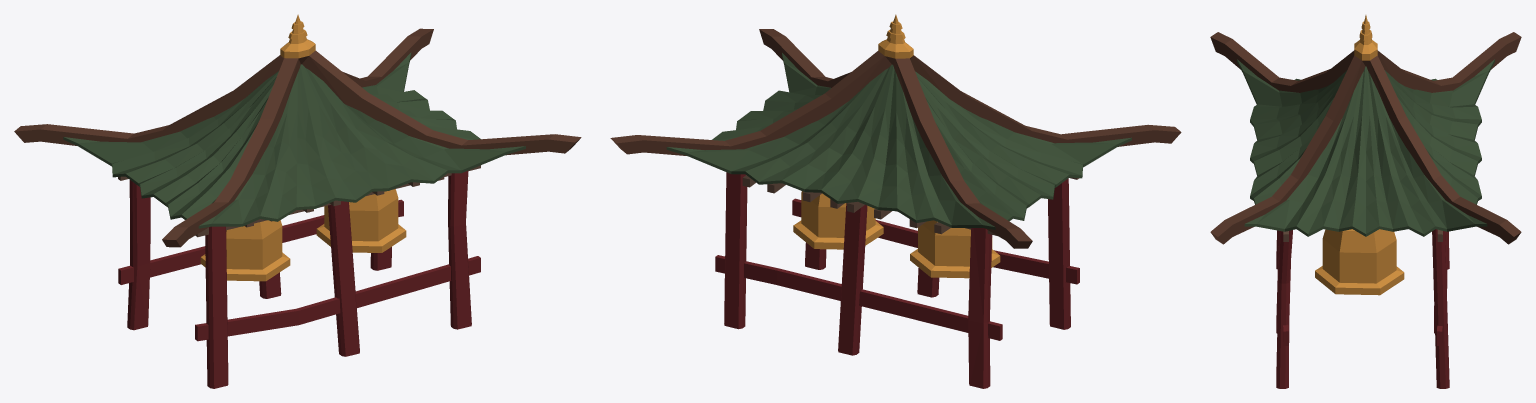
The model's file is Wall_1_BelTower Asia.fbx.
The picture shows the model from 3 angles, left to right: view 1: azimuth 30°, elevation 25°; view 2: azimuth 150°, elevation 25°; view 3: azimuth 270°, elevation 25°; orthographic projection.
Visible parts, largest first — view 1: Wall_1_BelTower; view 2: Wall_1_BelTower; view 3: Wall_1_BelTower.
Part boxes in pixels (box(x1,y1,x2,y2)): Wall_1_BelTower: box(14, 14, 581, 388); Wall_1_BelTower: box(610, 14, 1181, 388); Wall_1_BelTower: box(1210, 15, 1521, 388).
Bounding box in the file's own units: 6 × 4.24 × 3.85.
